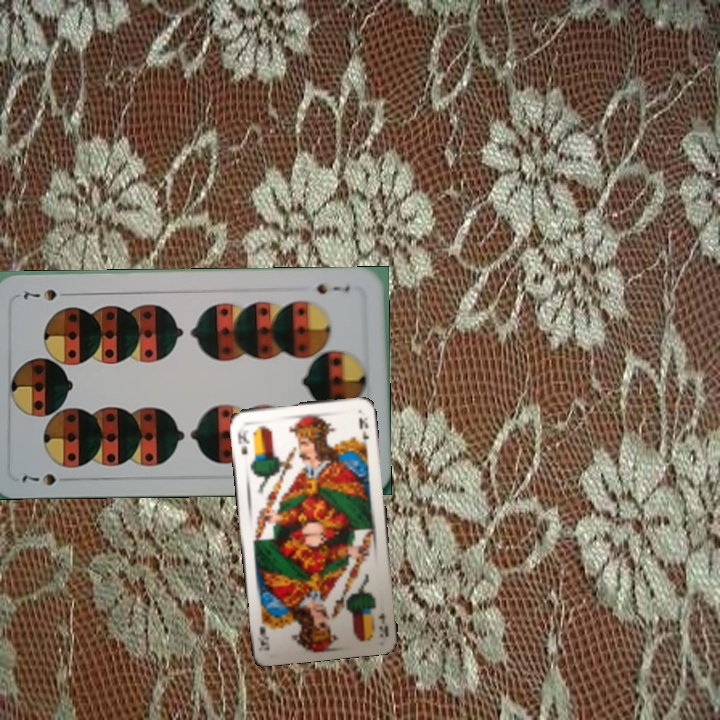EK: (233, 422, 252, 458), (374, 608, 391, 638)
S7: (18, 469, 59, 488), (312, 280, 352, 297)
